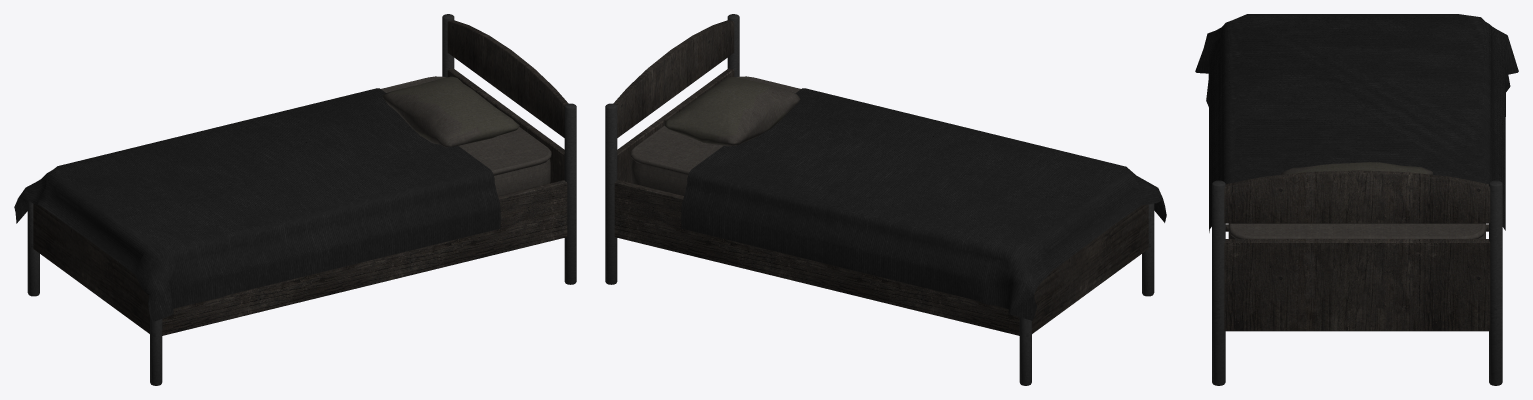
File: bed_3.obj
3 renders of one model, left to right at view 1: azimuth 30°, elevation 25°; view 2: azimuth 150°, elevation 25°; view 3: azimuth 270°, elevation 25°, orthographic. The views are drawn at different scales.
Visible parts, largest first — view 1: bed_3; view 2: bed_3; view 3: bed_3.
Boxes of the visible parts, left/top/right/bottom form: bed_3: left=14, top=14, right=576, bottom=385; bed_3: left=605, top=14, right=1166, bottom=385; bed_3: left=1195, top=14, right=1518, bottom=385.
Size of the model in its own units: 2.87 by 1.18 by 1.64.
